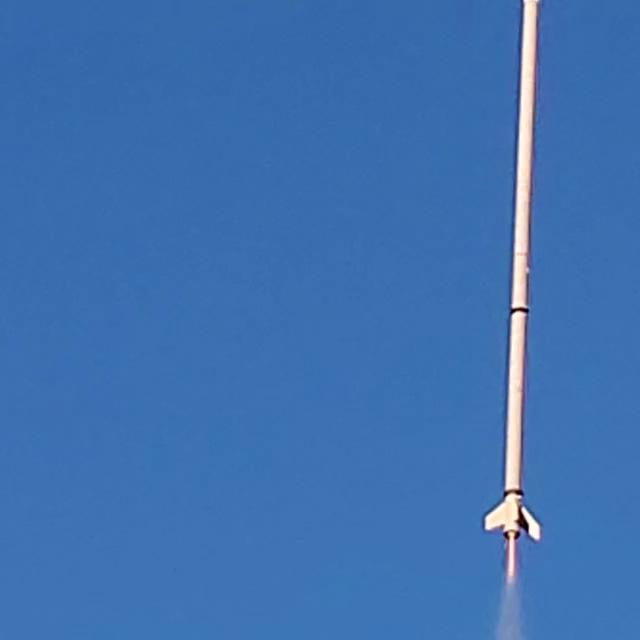rocket: (484, 0, 542, 563)
